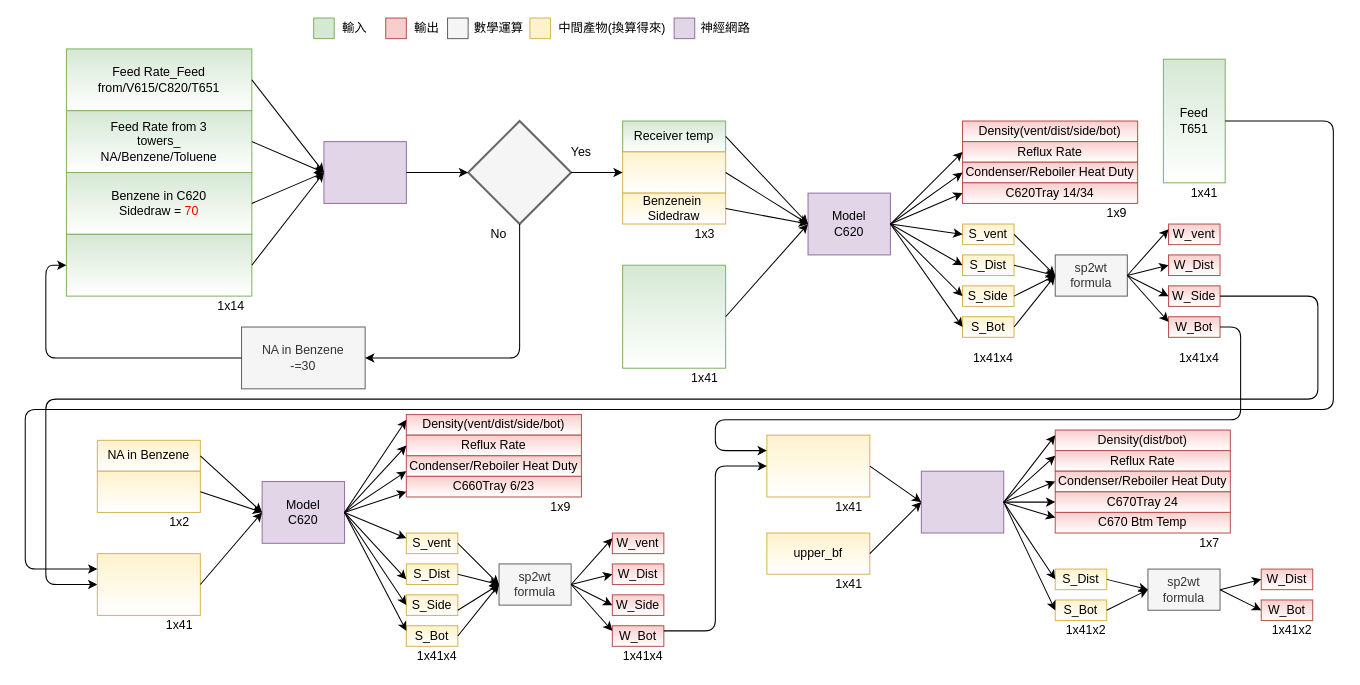
Image size: 1360x685. Some labels were removed from this diagram. Here are the shapes that lost their labels. From the top down, the centre of each, then its label:
[364,172]: Model 620_ICG
[519,172]: distillate Rate>0?
[674,172]: Distillate Rate
[158,264]: NA in Benzene = 980
[674,316]: Feed V615&C820
[818,465]: Feed_C670
[148,491]: Toluene in Benzene= 10
[962,501]: Model C670
[148,584]: Feed_C660
